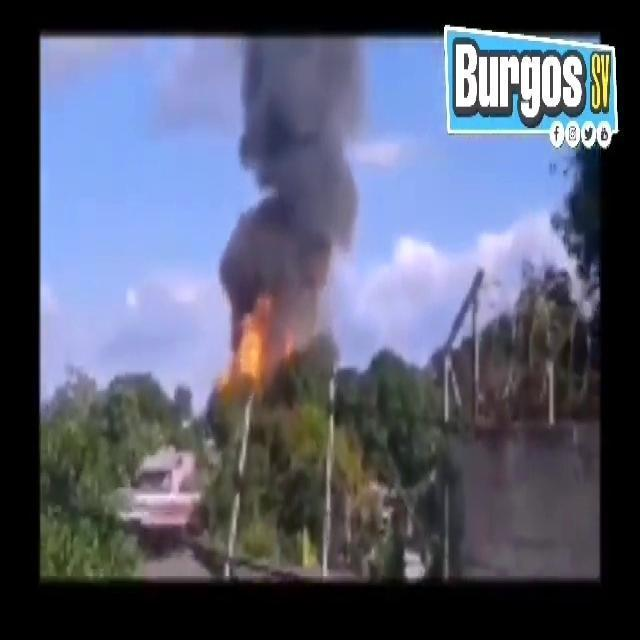Fire: (229, 312, 269, 386)
Smoke: (221, 40, 378, 345)
